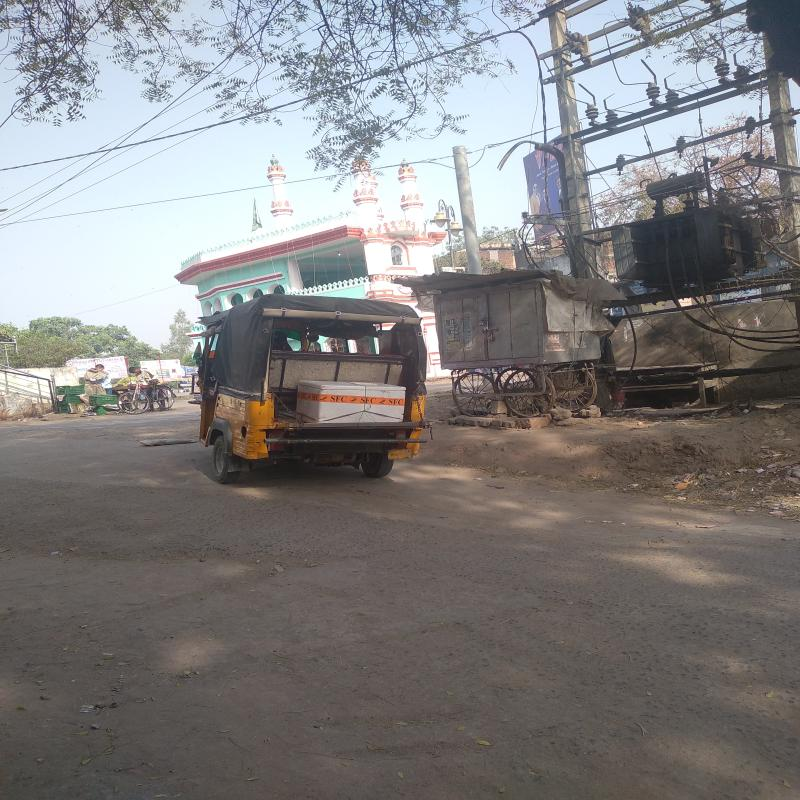auto: (200, 301, 414, 486)
